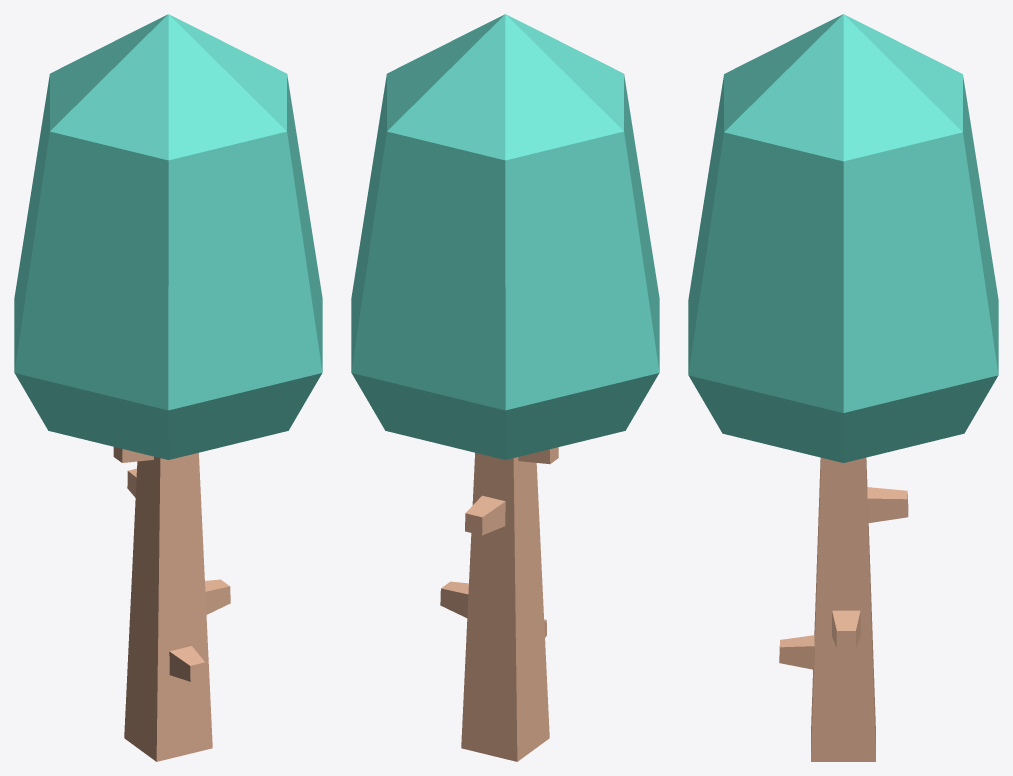
3 views of the same model, side by side, from view 1: azimuth 30°, elevation 25°; view 2: azimuth 150°, elevation 25°; view 3: azimuth 270°, elevation 25° (orthographic).
Visible parts, largest first — view 1: tree_default; view 2: tree_default; view 3: tree_default.
Part boxes in pixels (box(x1,y1,x2,y2)): tree_default: box(14, 14, 322, 761); tree_default: box(351, 14, 659, 761); tree_default: box(688, 14, 998, 761).
Size of the model in its own units: 0.755 by 1.71 by 0.6538.
